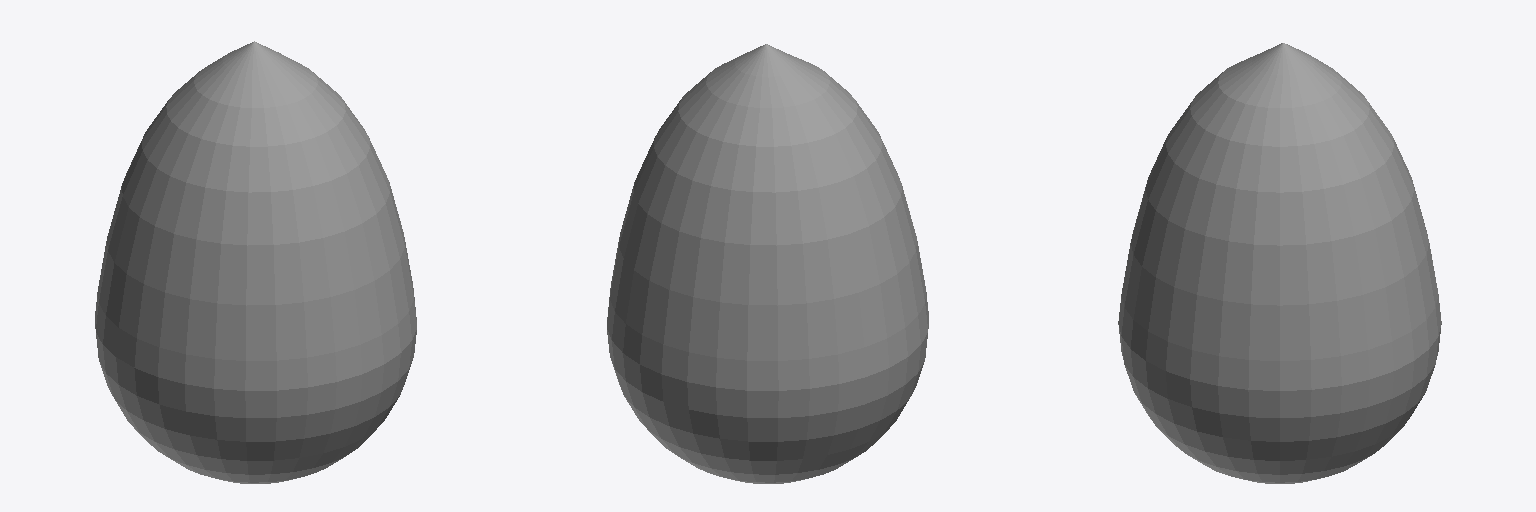
Rendered from smoothcorn.obj.
3 views of the same model, side by side, from view 1: azimuth 30°, elevation 25°; view 2: azimuth 150°, elevation 25°; view 3: azimuth 270°, elevation 25° (orthographic).
Visible parts, largest first — view 1: Sphere; view 2: Sphere; view 3: Sphere.
Part boxes in pixels (x1,y1,x2,y2): Sphere: (95, 41, 416, 483); Sphere: (607, 44, 928, 483); Sphere: (1118, 43, 1441, 483).
Bounding box in the file's own units: 0.4386 × 0.6388 × 0.4386.